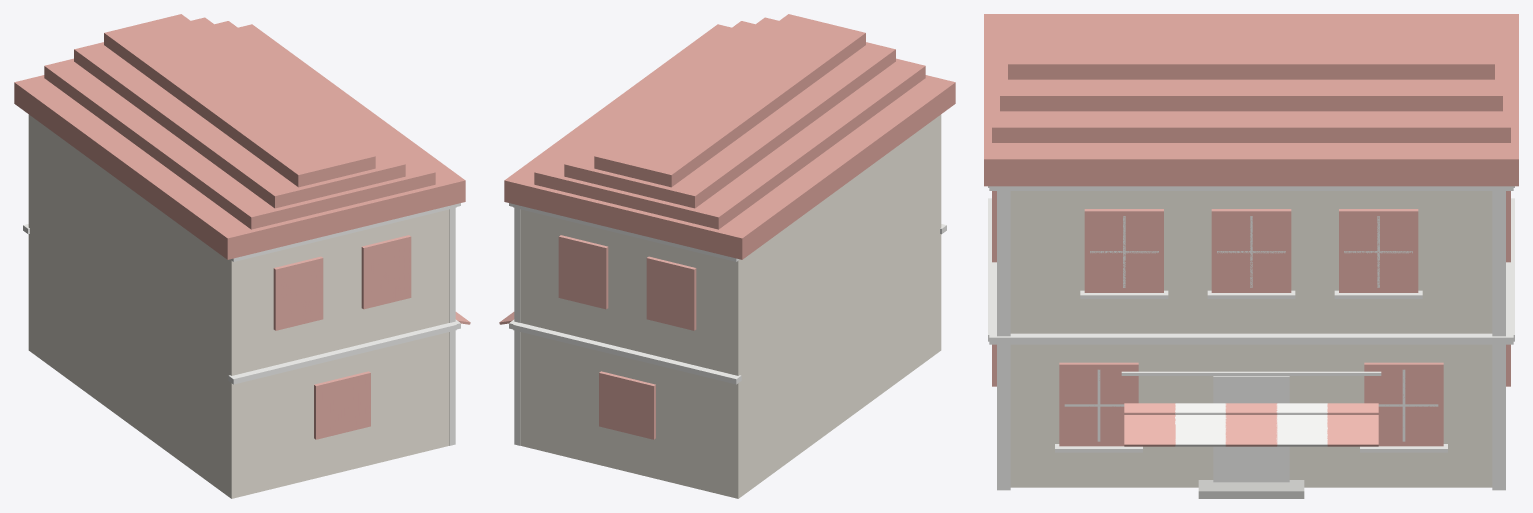
The model's file is Shop_E.fbx.
The picture shows the model from 3 angles, left to right: view 1: azimuth 30°, elevation 25°; view 2: azimuth 150°, elevation 25°; view 3: azimuth 270°, elevation 25°; orthographic projection. The views are drawn at different scales.
Visible parts, largest first — view 1: Shop_E; view 2: Shop_E; view 3: Shop_E.
Part boxes in pixels (left/top/right/bottom): Shop_E: left=14, top=14, right=470, bottom=498; Shop_E: left=499, top=14, right=955, bottom=498; Shop_E: left=984, top=14, right=1518, bottom=498.
Bounding box in the file's own units: 8.17 × 7.98 × 10.1.
